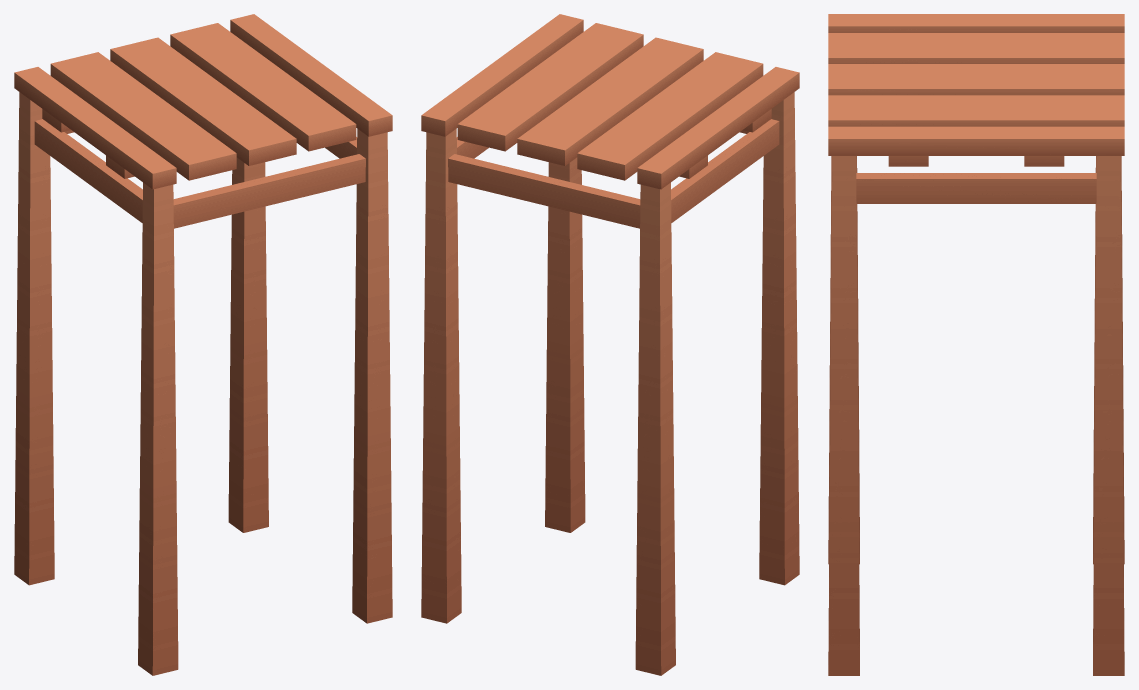
The model's file is platform.glb.
The picture shows the model from 3 angles, left to right: view 1: azimuth 30°, elevation 25°; view 2: azimuth 150°, elevation 25°; view 3: azimuth 270°, elevation 25°; orthographic projection. The views are drawn at different scales.
Visible parts, largest first — view 1: PlatformTop, Leg_BL, Leg_BR, Leg_FL, Leg_FR; view 2: PlatformTop, Leg_FL, Leg_FR, Leg_BL, Leg_BR; view 3: PlatformTop, Leg_BR, Leg_FR, Leg_BL, Leg_FL.
Boxes of the visible parts, x1,y1,x2,y2 form: PlatformTop: (14, 14, 392, 228); Leg_BL: (138, 182, 178, 675); Leg_BR: (352, 129, 392, 623); Leg_FL: (14, 92, 54, 585); Leg_FR: (228, 157, 268, 532); PlatformTop: (421, 14, 799, 228); Leg_FL: (635, 182, 675, 675); Leg_FR: (421, 129, 461, 623); Leg_BL: (759, 92, 799, 585); Leg_BR: (545, 157, 585, 532); PlatformTop: (828, 14, 1124, 203); Leg_BR: (828, 156, 859, 675); Leg_FR: (1093, 156, 1124, 675); Leg_BL: (828, 156, 859, 564); Leg_FL: (1093, 156, 1124, 564).
Bounding box in the file's own units: 2 × 4 × 2.
Materials: 1 (1 with a texture image).
